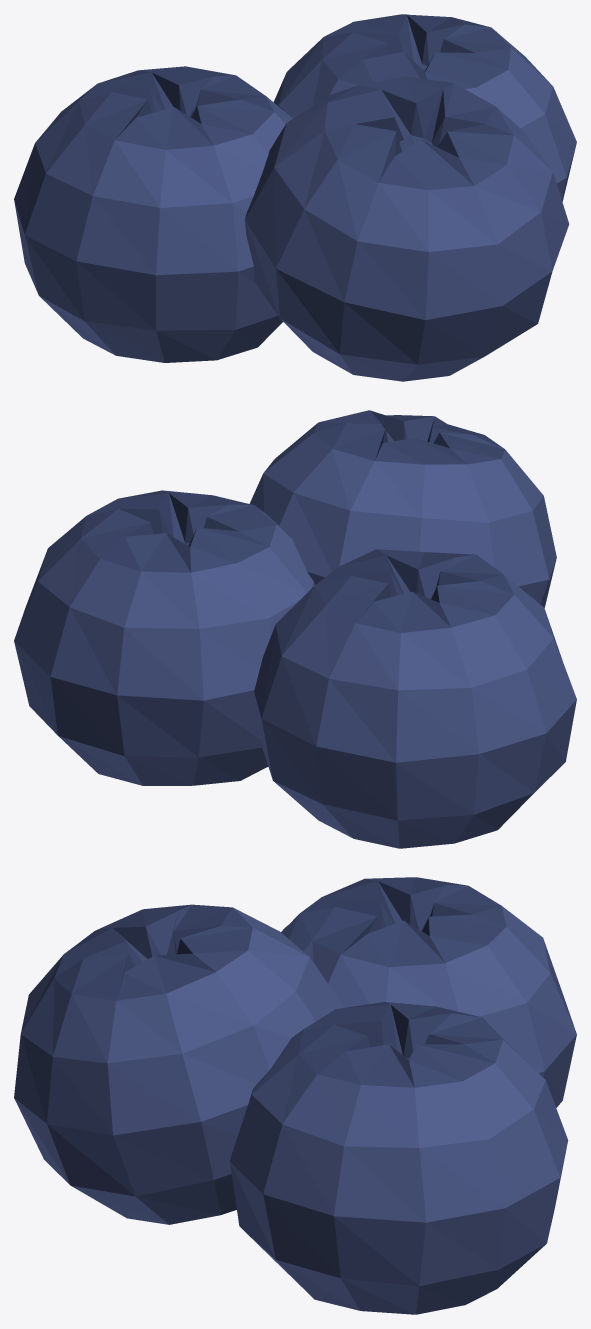
Rendered from blueberry.glb.
3 renders of one model, top to bottom at view 1: azimuth 30°, elevation 25°; view 2: azimuth 150°, elevation 25°; view 3: azimuth 270°, elevation 25°, orthographic. The views are drawn at different scales.
Bounding box in the file's own units: 1.83 × 0.9944 × 1.63.
